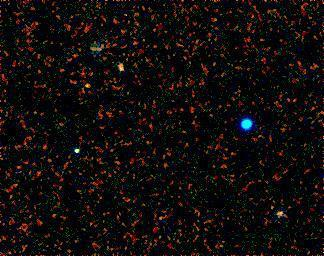star: (72, 71, 102, 101)
